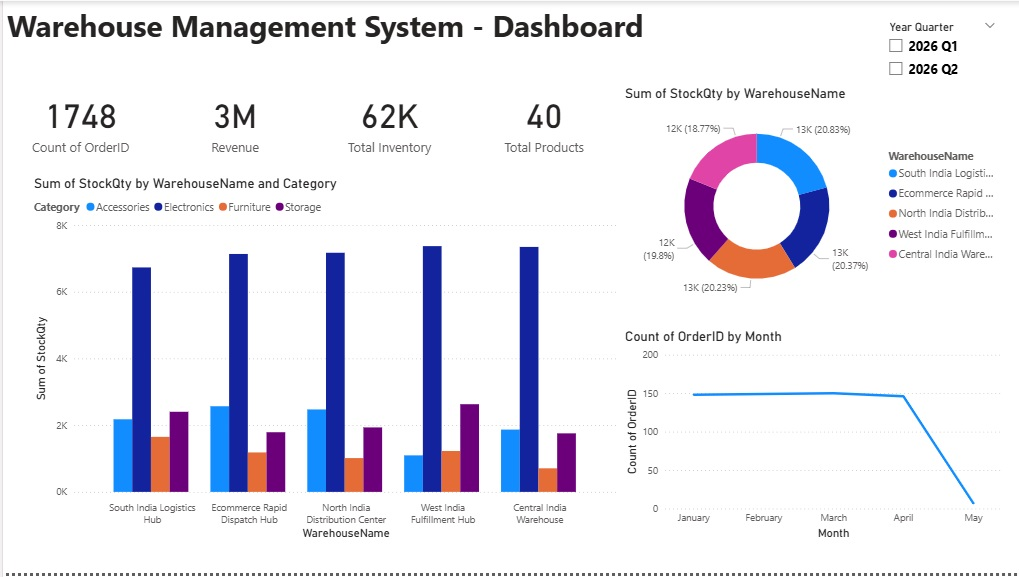

Layout of this report page (visuals, bound fields, positions):
{"tool":"powerbi","page":{"name":"Page 1","canvas":[1280,720],"ordinal":0},"visuals":[{"type":"textbox","box":[0,0,1164.6,69.6],"z":0},{"type":"donutChart","fields":{"Category":["Warehouses.WarehouseName"],"Y":["Sum(Inventory.StockQty)"]},"box":[777.4,105.7,483.1,284.9],"z":1000},{"type":"lineChart","fields":{"Y":["CountNonNull(Orders.OrderID)"],"Category":["Orders.OrderDate.Variation.Date Hierarchy.Month"]},"box":[777.4,411.4,483.1,269.8],"z":2000},{"type":"card","fields":{"Values":["CountNonNull(OrderDetails.OrderID)"]},"box":[0,87,194.6,128.5],"z":3000},{"type":"card","fields":{"Values":["Inventory.Revenue"]},"box":[194.6,87,194.6,128.5],"z":4000},{"type":"card","fields":{"Values":["Inventory.Total Inventory"]},"box":[389.3,87,194.6,128.5],"z":5000},{"type":"card","fields":{"Values":["Inventory.Total Products"]},"box":[583.9,87,194.6,128.5],"z":6000},{"type":"clusteredColumnChart","fields":{"Category":["Warehouses.WarehouseName"],"Series":["Products.Category"],"Y":["Sum(Inventory.StockQty)"]},"box":[34,218.9,743.5,462.3],"z":7000},{"type":"slicer","fields":{"Values":["Orders.Year Quarter"]},"box":[1102,18.9,158.5,86.8],"z":8000}]}

Visuals, with their boxes in screenshot pixels (x1, y1, x2, y2), scaled from the page's 1280x720 canvas onto the 1019x577 screenshot:
textbox: left=0, top=0, right=927, bottom=56
donutChart - Warehouses.WarehouseName x Sum(Inventory.StockQty): left=619, top=85, right=1003, bottom=313
lineChart - CountNonNull(Orders.OrderID) x Orders.OrderDate.Variation.Date Hierarchy.Month: left=619, top=330, right=1003, bottom=546
card - CountNonNull(OrderDetails.OrderID): left=0, top=70, right=155, bottom=173
card - Inventory.Revenue: left=155, top=70, right=310, bottom=173
card - Inventory.Total Inventory: left=310, top=70, right=465, bottom=173
card - Inventory.Total Products: left=465, top=70, right=620, bottom=173
clusteredColumnChart - Warehouses.WarehouseName x Products.Category: left=27, top=175, right=619, bottom=546
slicer - Orders.Year Quarter: left=877, top=15, right=1003, bottom=85
